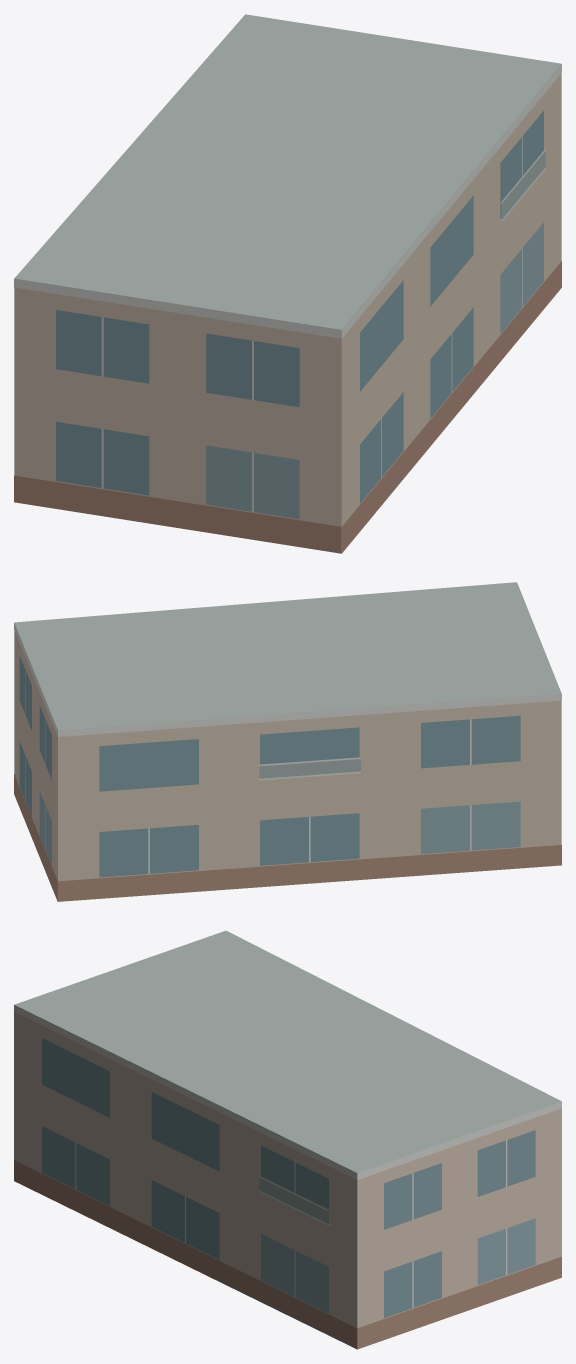
Rendered from survey-upis-32528114.glb.
The picture shows the model from 3 angles, top to bottom: view 1: azimuth 30°, elevation 25°; view 2: azimuth 150°, elevation 25°; view 3: azimuth 270°, elevation 25°; orthographic projection. The views are drawn at different scales.
Parts seen in each view (by area): view 1: survey-upis-32528114.tmp; view 2: survey-upis-32528114.tmp; view 3: survey-upis-32528114.tmp.
Boxes of the visible parts, left/top/right/bottom form: survey-upis-32528114.tmp: left=14, top=14, right=561, bottom=553; survey-upis-32528114.tmp: left=14, top=582, right=561, bottom=901; survey-upis-32528114.tmp: left=14, top=930, right=561, bottom=1349.
Size of the model in its own units: 18.01 by 6.1 by 17.18.
